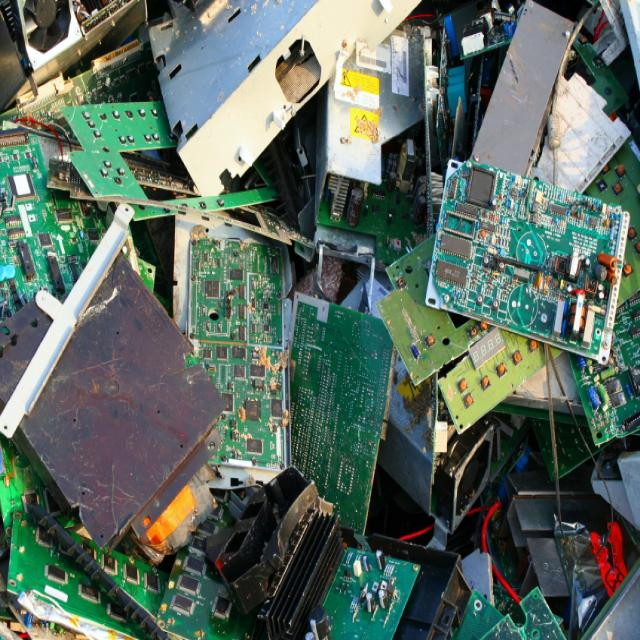Hazard: (5, 24, 626, 621)
